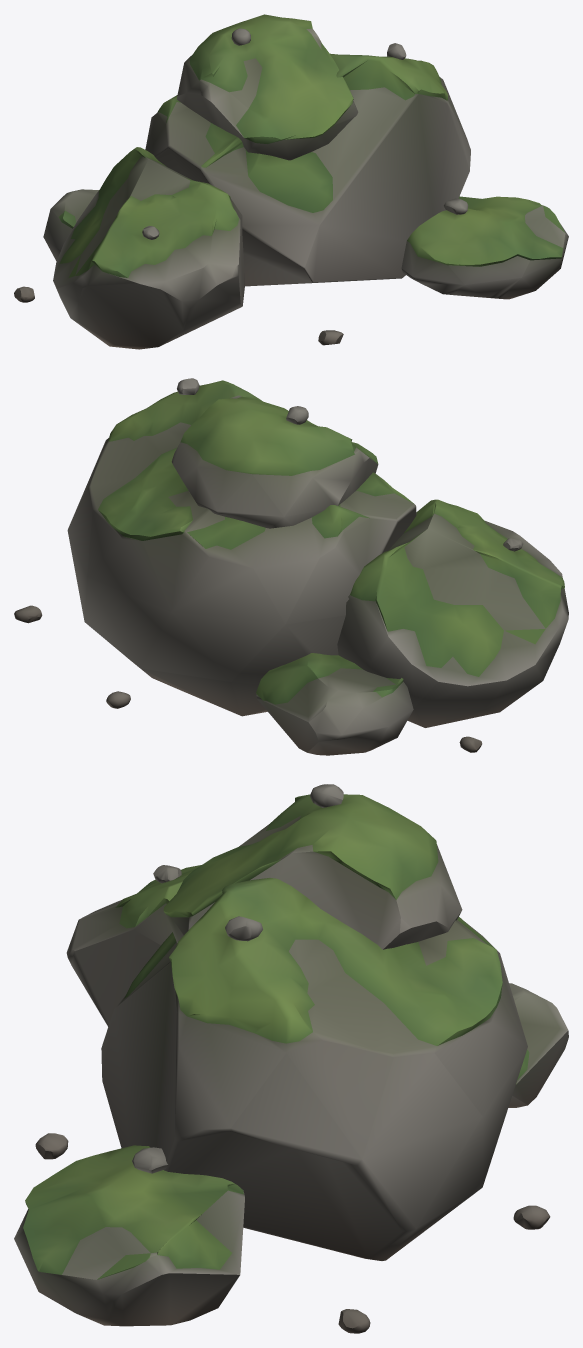
Rendered from outcrop.glb.
3 views of the same model, one above another, from view 1: azimuth 30°, elevation 25°; view 2: azimuth 150°, elevation 25°; view 3: azimuth 270°, elevation 25° (orthographic). The views are drawn at different scales.
Parts seen in each view (by area): view 1: Outcrop; view 2: Outcrop; view 3: Outcrop, Loose_2, Loose_1, Loose_6, Loose_7.
Part boxes in pixels (<box>): Outcrop: <box>43,14,568,349</box>; Outcrop: <box>67,380,568,755</box>; Outcrop: <box>14,794,568,1326</box>; Loose_2: <box>132,1147,168,1173</box>; Loose_1: <box>225,916,262,941</box>; Loose_6: <box>513,1205,550,1229</box>; Loose_7: <box>35,1133,68,1159</box>.
Bounding box in the file's own units: 2.58 × 1.48 × 1.8.
